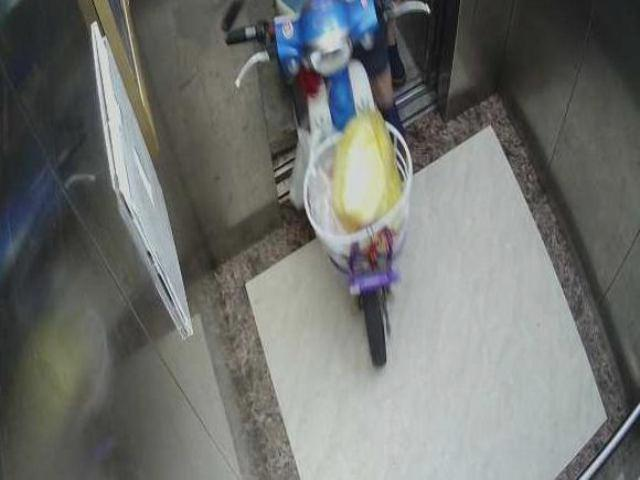emotor: (231, 4, 452, 375)
